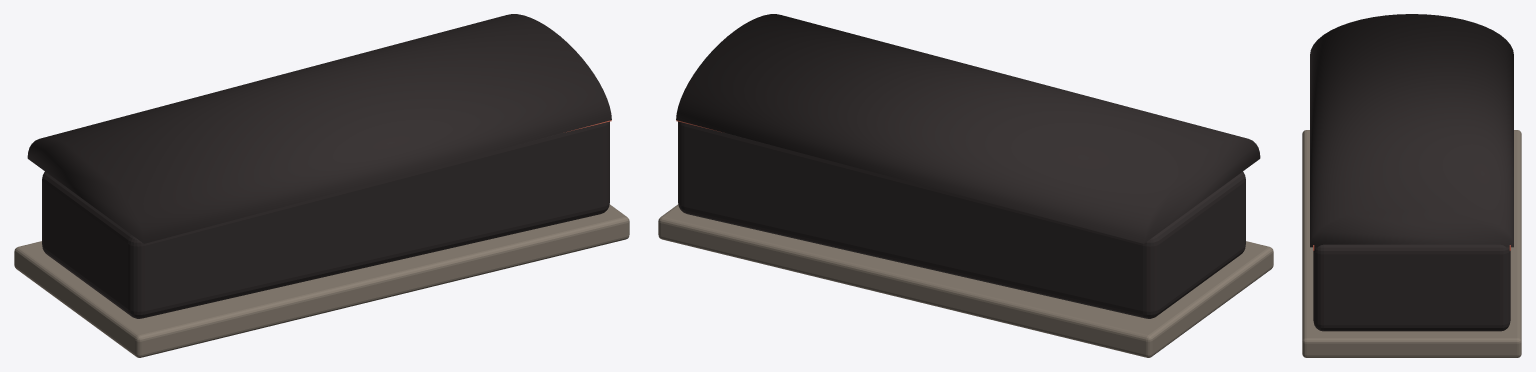
File: coffin_heavy.glb
3 renders of one model, left to right at view 1: azimuth 30°, elevation 25°; view 2: azimuth 150°, elevation 25°; view 3: azimuth 270°, elevation 25°, orthographic. The views are drawn at different scales.
Visible parts, largest first — view 1: Coffin_Han; view 2: Coffin_Han; view 3: Coffin_Han.
Boxes of the visible parts, x1,y1,x2,y2 form: Coffin_Han: (14,14,629,357); Coffin_Han: (658,14,1273,357); Coffin_Han: (1302,14,1521,357).
Size of the model in its own units: 4.6 by 1.49 by 2.02.
